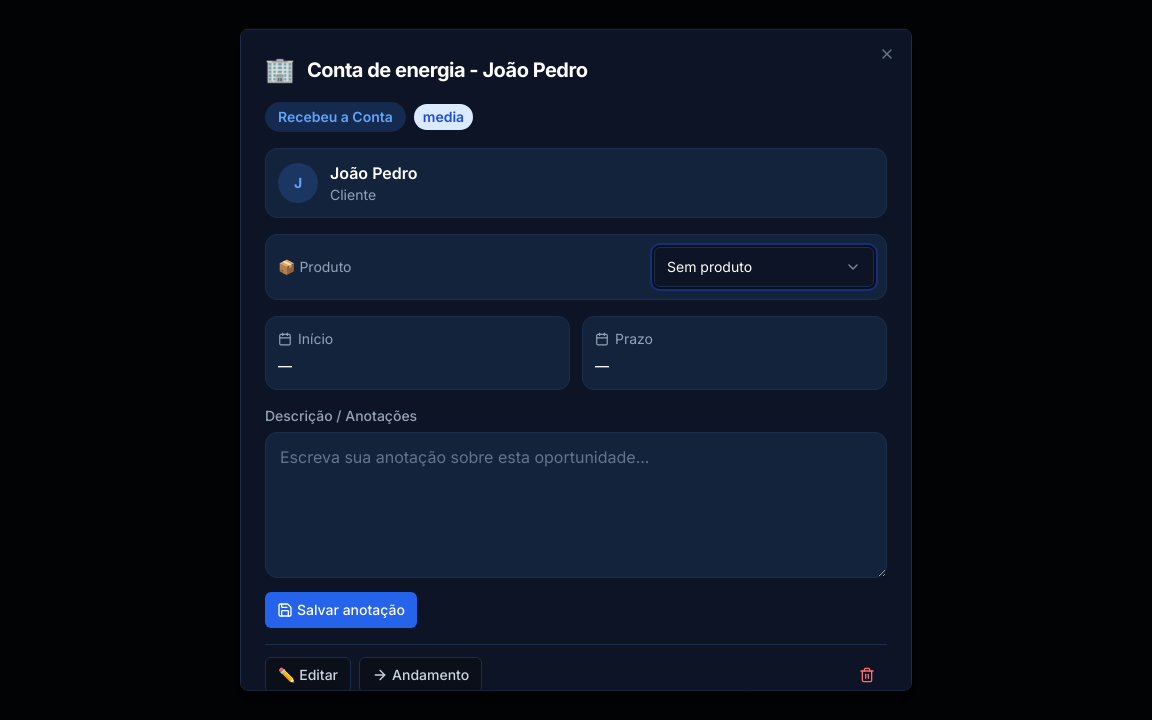
Test: ModalDetalhesOportunidade — quadro maior + anotação › após salvar mostra confirmação visível
Expected: the dialog is shown, [240, 29, 912, 691]
What coordinates should you click on to do the following:
click the button "Salvar anotação"
I would click on:
 (341, 610)
Its box is [265, 592, 417, 628].
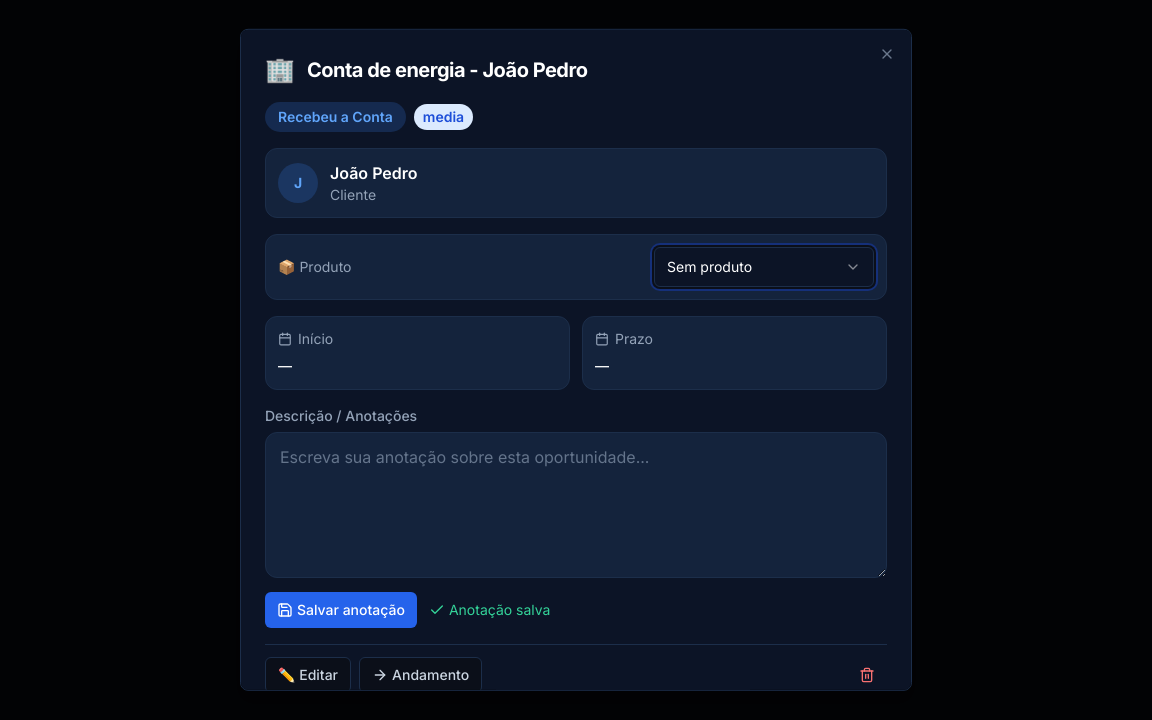
Now the text "Anotação salva" is shown, box [429, 600, 550, 620]
